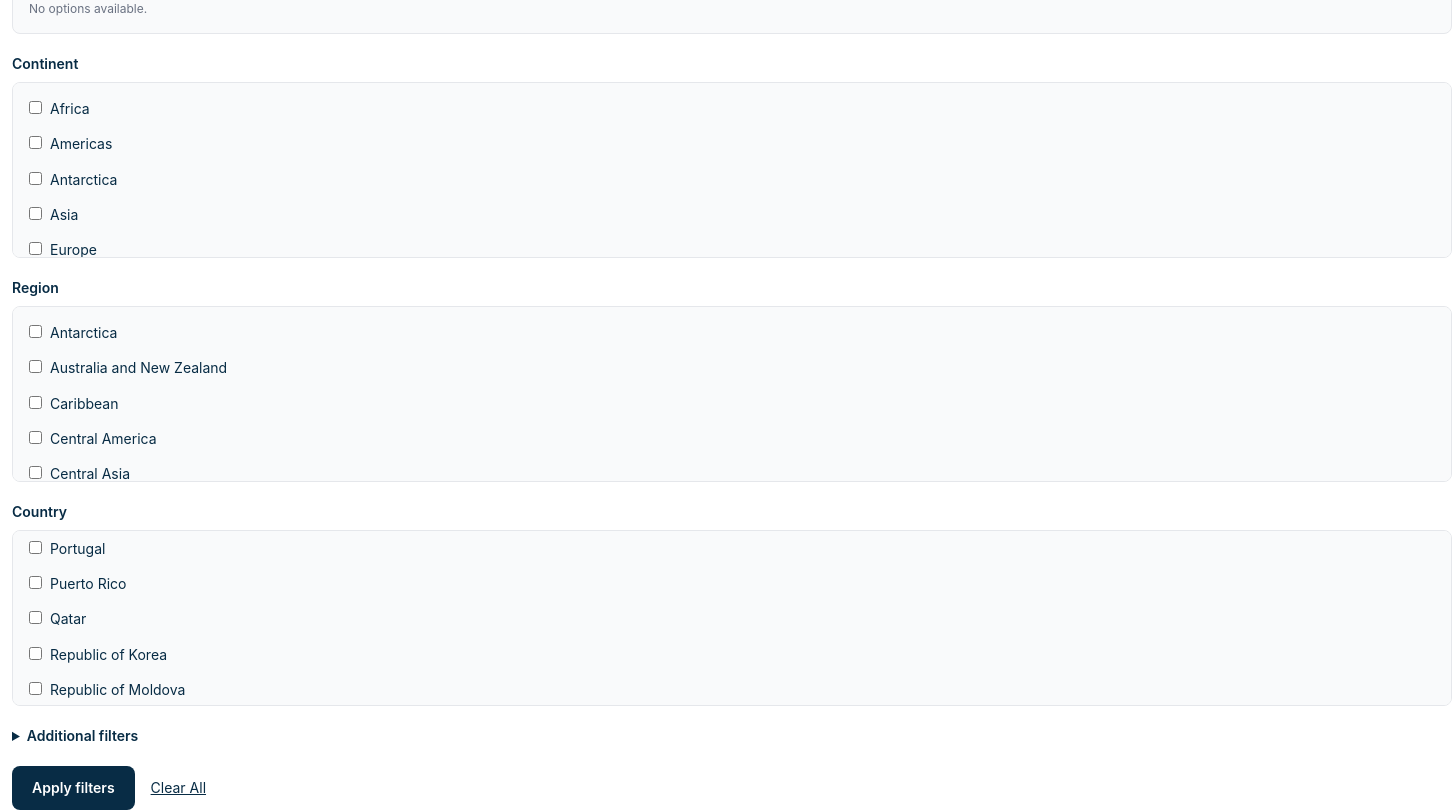
Scenario: allows countries in different regions, then visibly clears children after a parent change
(page scrolled)
Click the checkbox labelled "Qatar" at (36, 618), box [29,611,42,624]
(page scrolled)
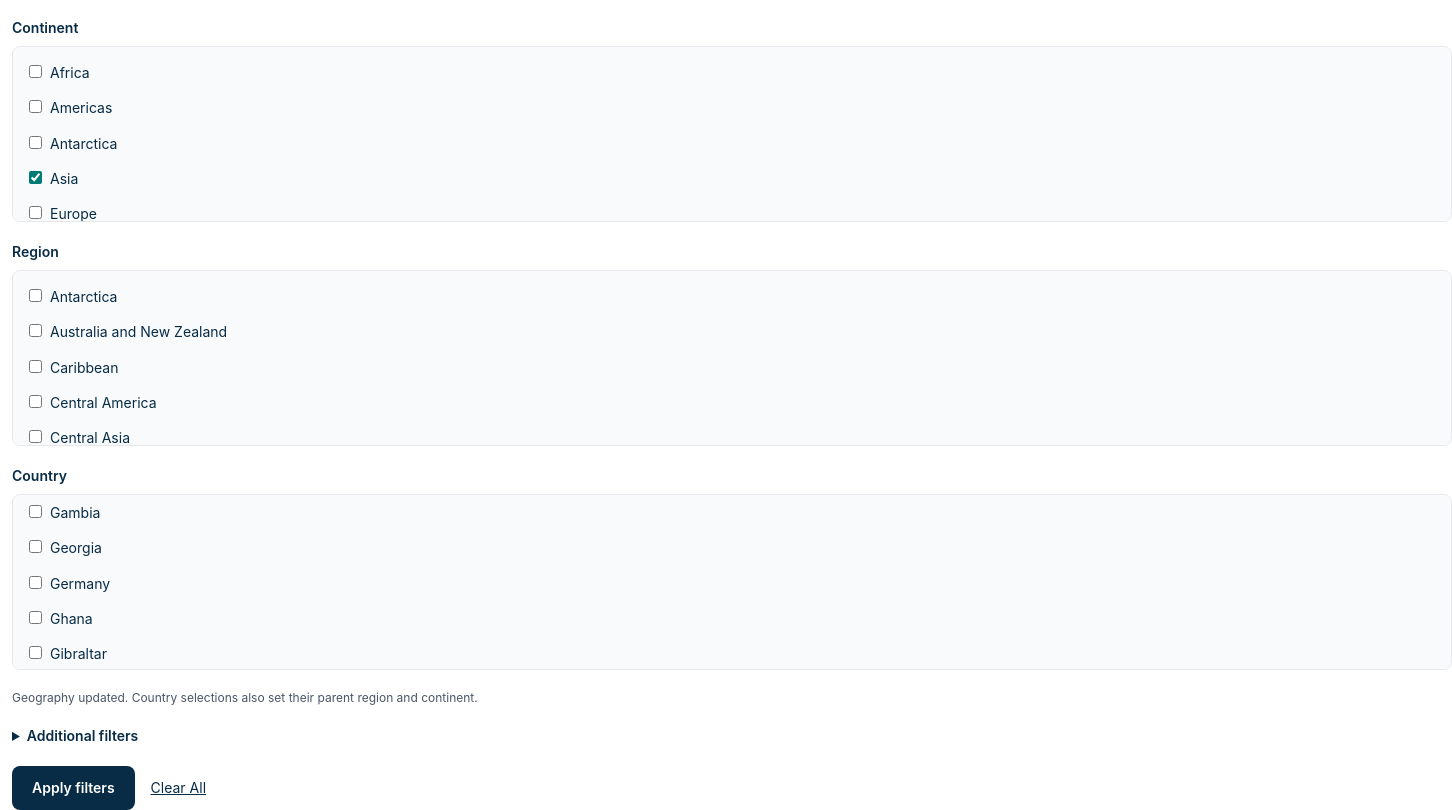
Click the checkbox labelled "Germany" at (36, 582), box [29,576,42,589]
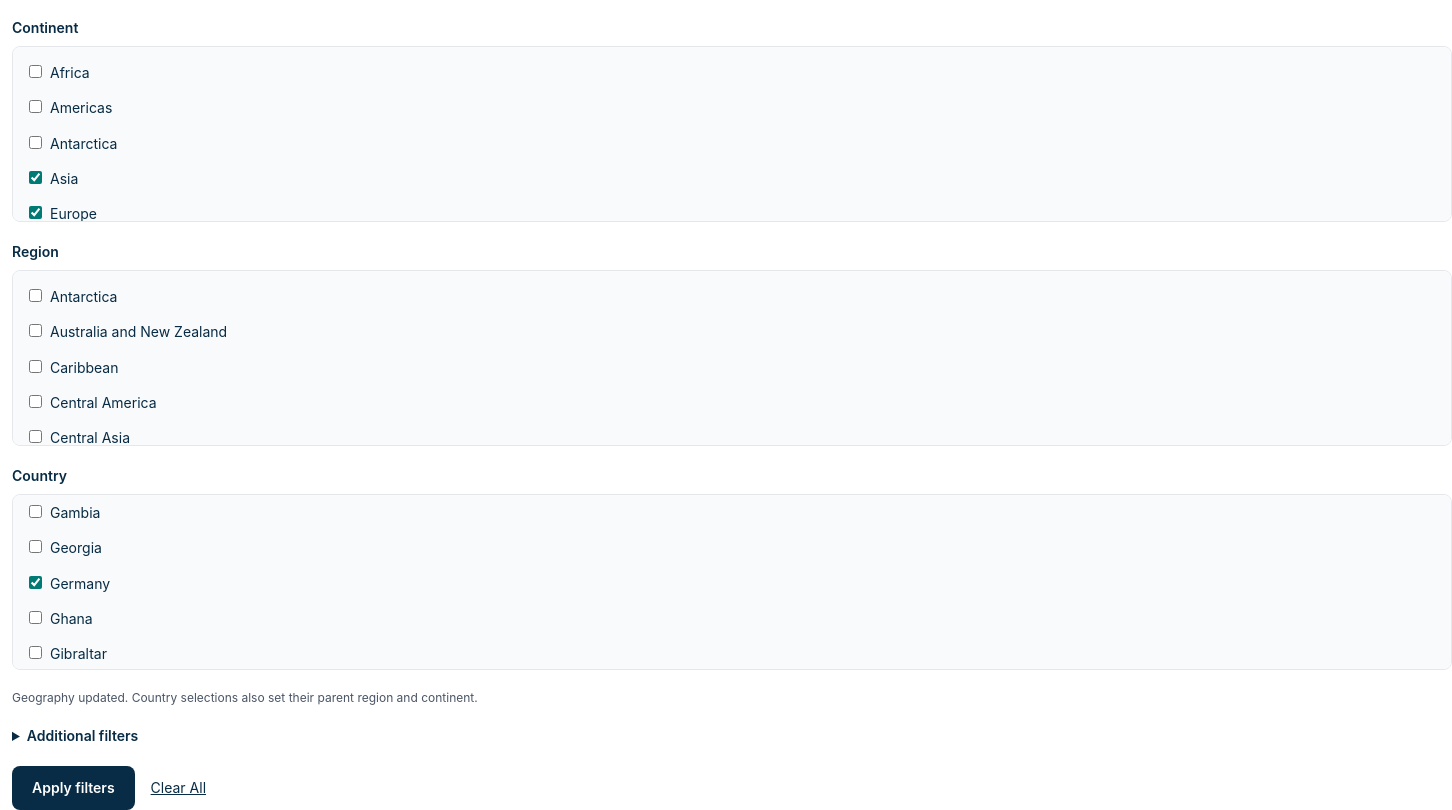
Click the checkbox labelled "Asia" at (36, 177), box [29,171,42,184]
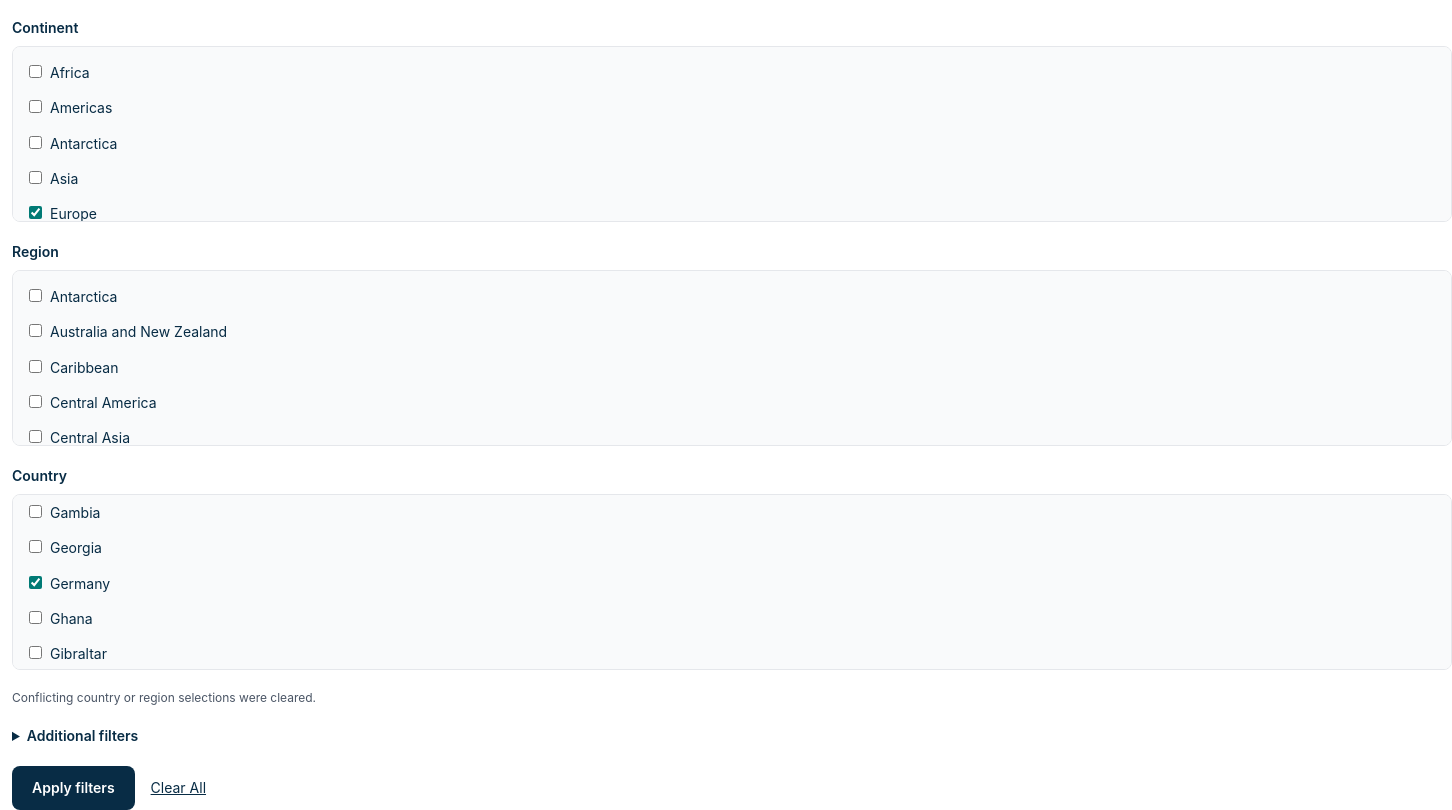
Expected: the message reads "Conflicting country or region selections were cleared.", [12,690,316,705]
